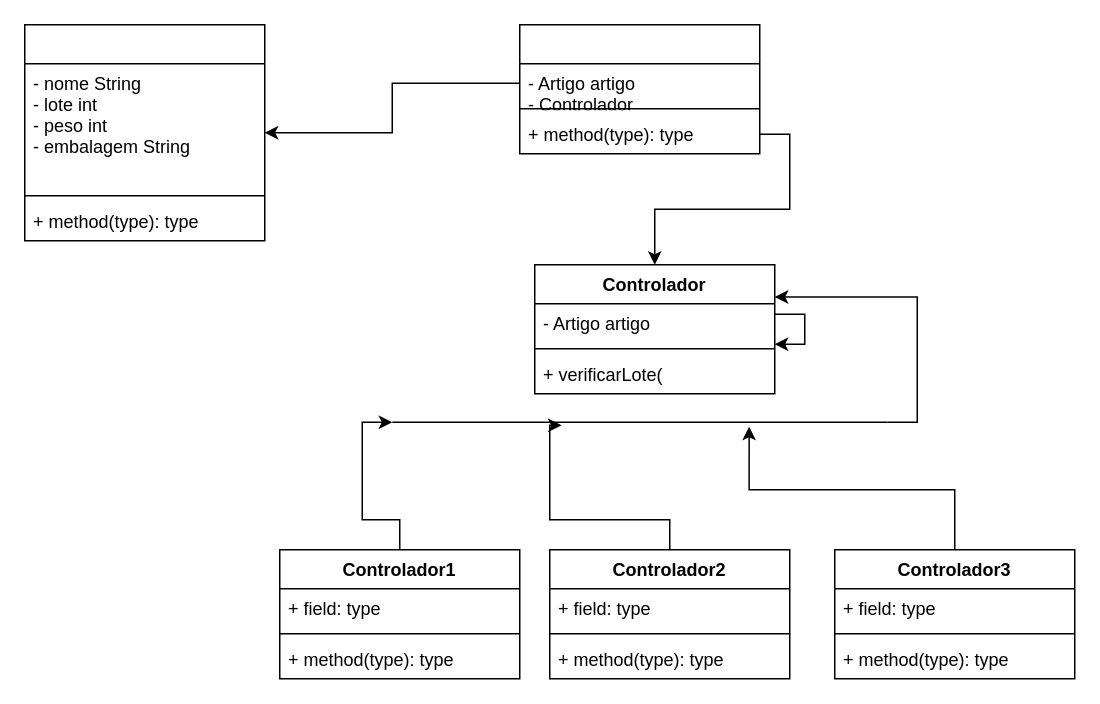
Image size: 1100x704. Some labels were removed from this diagram. Each missing label, with the box of its shape:
Artigo: (23, 23, 265, 241)
CheckQuality: (518, 23, 760, 154)
